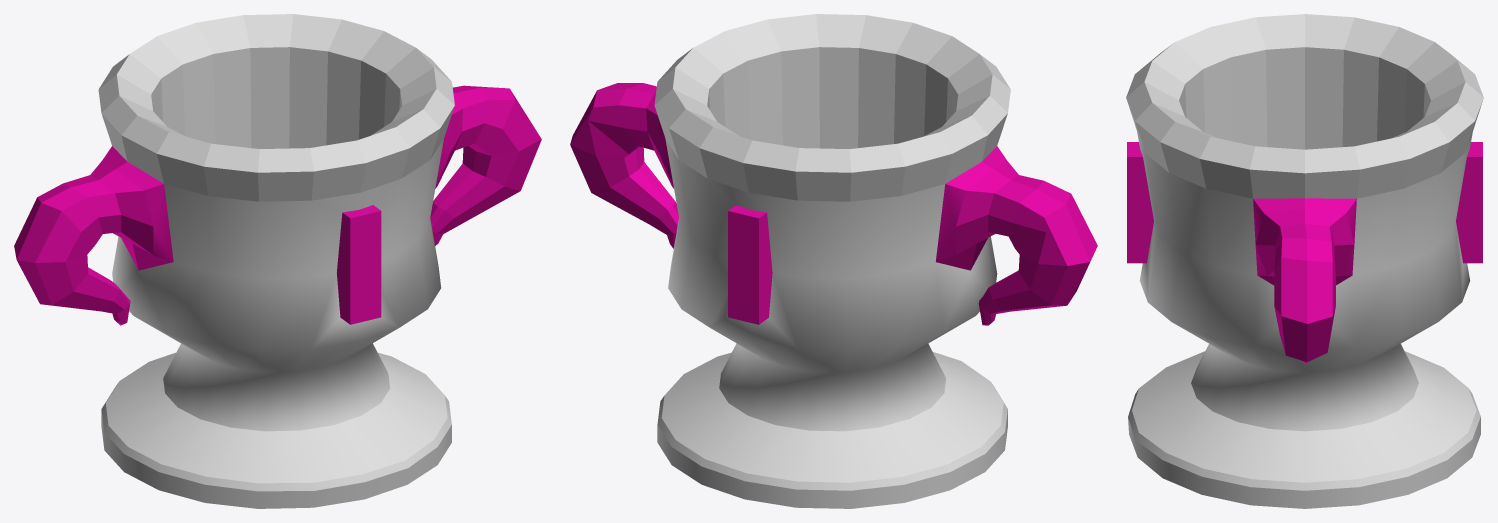
File: trophy.fbx
The picture shows the model from 3 angles, left to right: view 1: azimuth 30°, elevation 25°; view 2: azimuth 150°, elevation 25°; view 3: azimuth 270°, elevation 25°; orthographic projection.
Parts seen in each view (by area): view 1: trophy; view 2: trophy; view 3: trophy.
Part boxes in pixels (box(x1,y1,x2,y2)): trophy: box(14, 14, 541, 508); trophy: box(570, 14, 1097, 508); trophy: box(1126, 14, 1483, 508).
Size of the model in its own units: 3.88 by 2.53 by 2.33.
